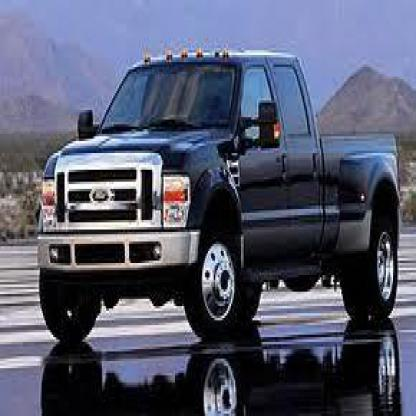Vehicle: (36, 46, 403, 340)
